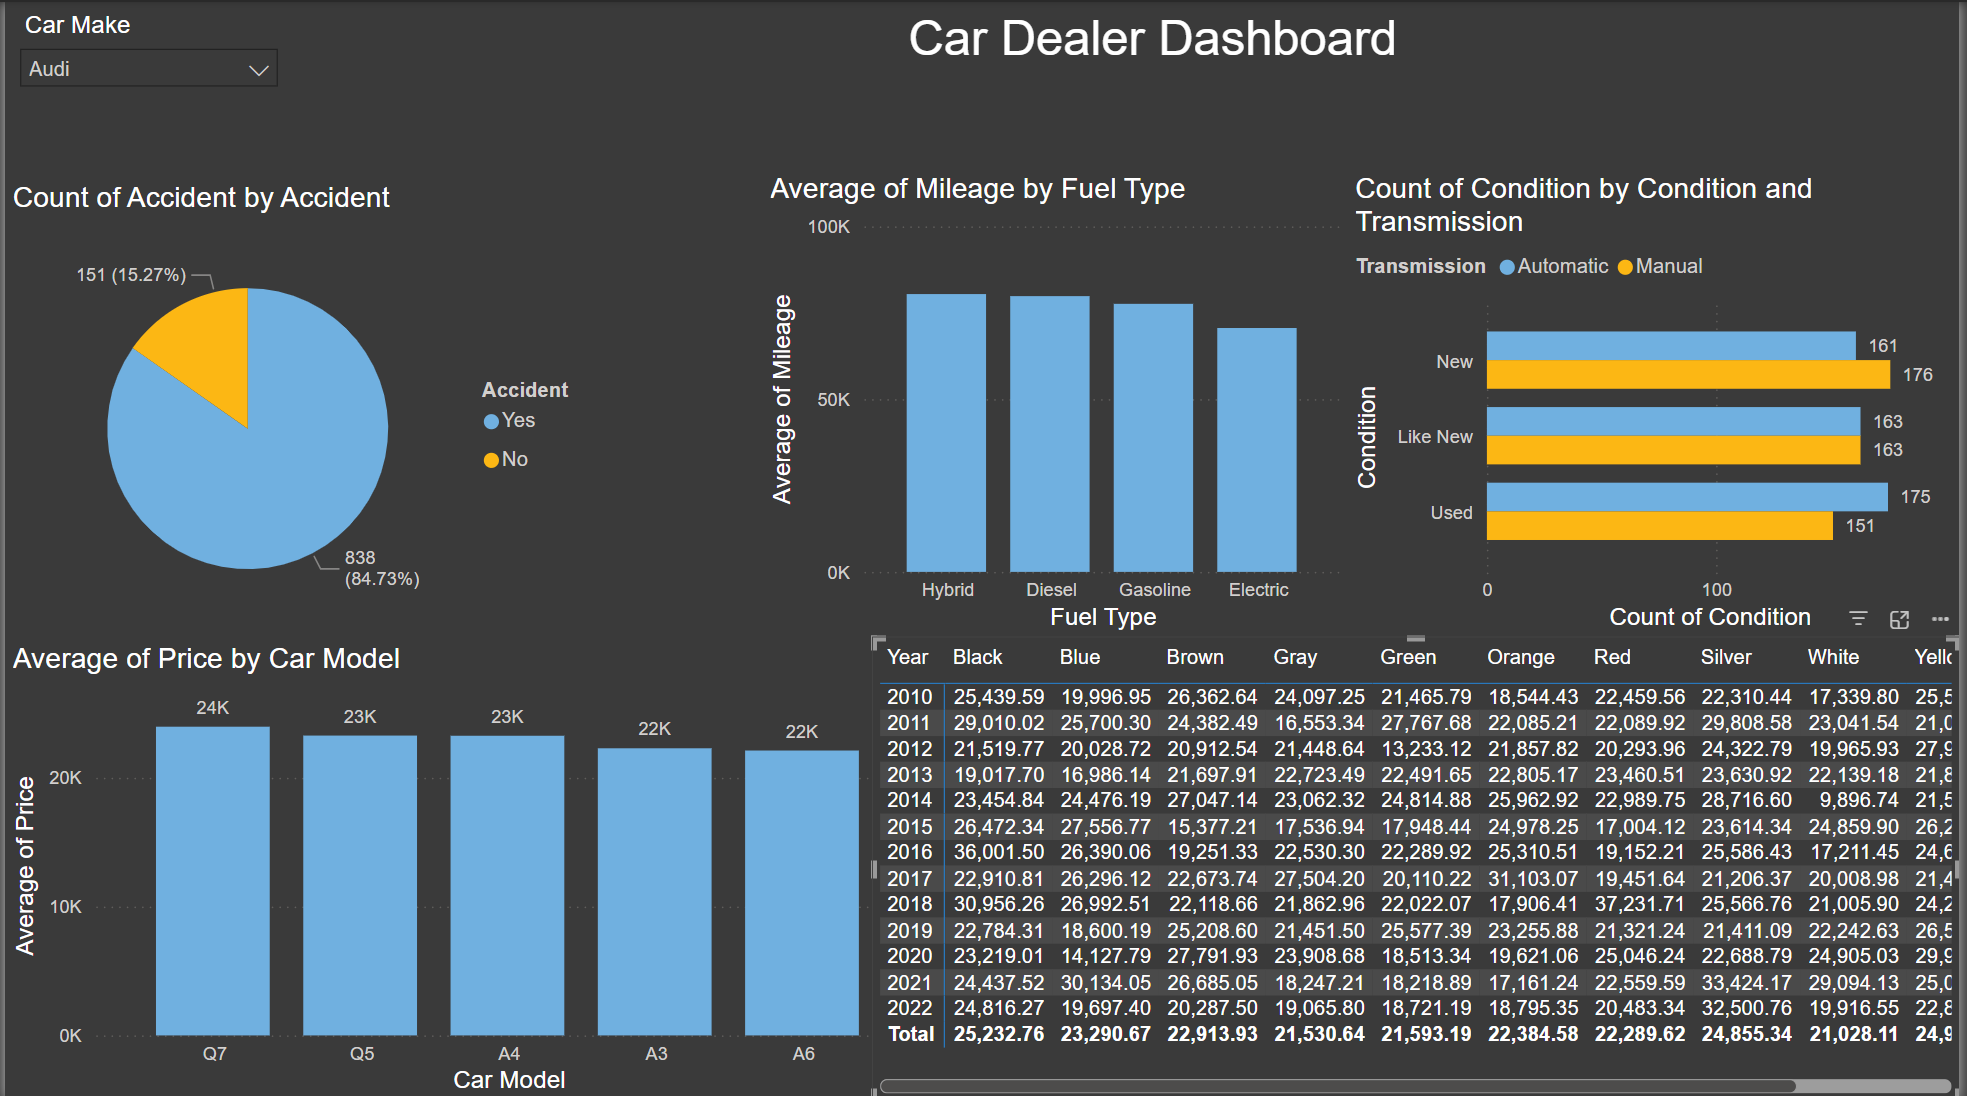

Layout of this report page (visuals, bound fields, positions):
{"tool":"powerbi","page":{"name":"Page 1","canvas":[1280,720],"ordinal":0},"visuals":[{"type":"clusteredColumnChart","fields":{"Y":["Avg(Updated_Car_Sales_Data.Price)"],"Category":["Updated_Car_Sales_Data.Car Model"]},"box":[0,419.5,605.5,300.7],"z":0},{"type":"pieChart","fields":{"Category":["Updated_Car_Sales_Data.Accident"],"Y":["CountNonNull(Updated_Car_Sales_Data.Accident)"]},"box":[0,117.5,391.6,302.1],"z":1},{"type":"slicer","fields":{"Values":["Updated_Car_Sales_Data.Car Make"]},"box":[0,0,188.8,95.1],"z":2},{"type":"clusteredBarChart","fields":{"Category":["Updated_Car_Sales_Data.Condition"],"Y":["CountNonNull(Updated_Car_Sales_Data.Condition)"],"Series":["Updated_Car_Sales_Data.Transmission"]},"box":[880,112,400,304],"z":3},{"type":"clusteredColumnChart","fields":{"Category":["Updated_Car_Sales_Data.Fuel Type"],"Y":["Avg(Updated_Car_Sales_Data.Mileage)"]},"box":[496,112,384,304],"z":4},{"type":"pivotTable","fields":{"Rows":["Updated_Car_Sales_Data.Year"],"Columns":["Updated_Car_Sales_Data.Color"],"Values":["Avg(Updated_Car_Sales_Data.Price)"]},"box":[568,416,712,304],"z":5},{"type":"textbox","box":[224,0,1056,96],"z":6}]}

Visuals, with their boxes in screenshot pixels (x1, y1, x2, y2), scaled from the page's 1280x720 canvas onto the 1967x1096 screenshot:
clusteredColumnChart - Avg(Updated_Car_Sales_Data.Price) x Updated_Car_Sales_Data.Car Model: {"x1": 0, "y1": 639, "x2": 930, "y2": 1095}
pieChart - Updated_Car_Sales_Data.Accident x CountNonNull(Updated_Car_Sales_Data.Accident): {"x1": 0, "y1": 179, "x2": 602, "y2": 639}
slicer - Updated_Car_Sales_Data.Car Make: {"x1": 0, "y1": 0, "x2": 290, "y2": 145}
clusteredBarChart - Updated_Car_Sales_Data.Condition x CountNonNull(Updated_Car_Sales_Data.Condition): {"x1": 1352, "y1": 170, "x2": 1966, "y2": 633}
clusteredColumnChart - Updated_Car_Sales_Data.Fuel Type x Avg(Updated_Car_Sales_Data.Mileage): {"x1": 762, "y1": 170, "x2": 1352, "y2": 633}
pivotTable - Updated_Car_Sales_Data.Year x Updated_Car_Sales_Data.Color: {"x1": 873, "y1": 633, "x2": 1966, "y2": 1095}
textbox: {"x1": 344, "y1": 0, "x2": 1966, "y2": 146}
